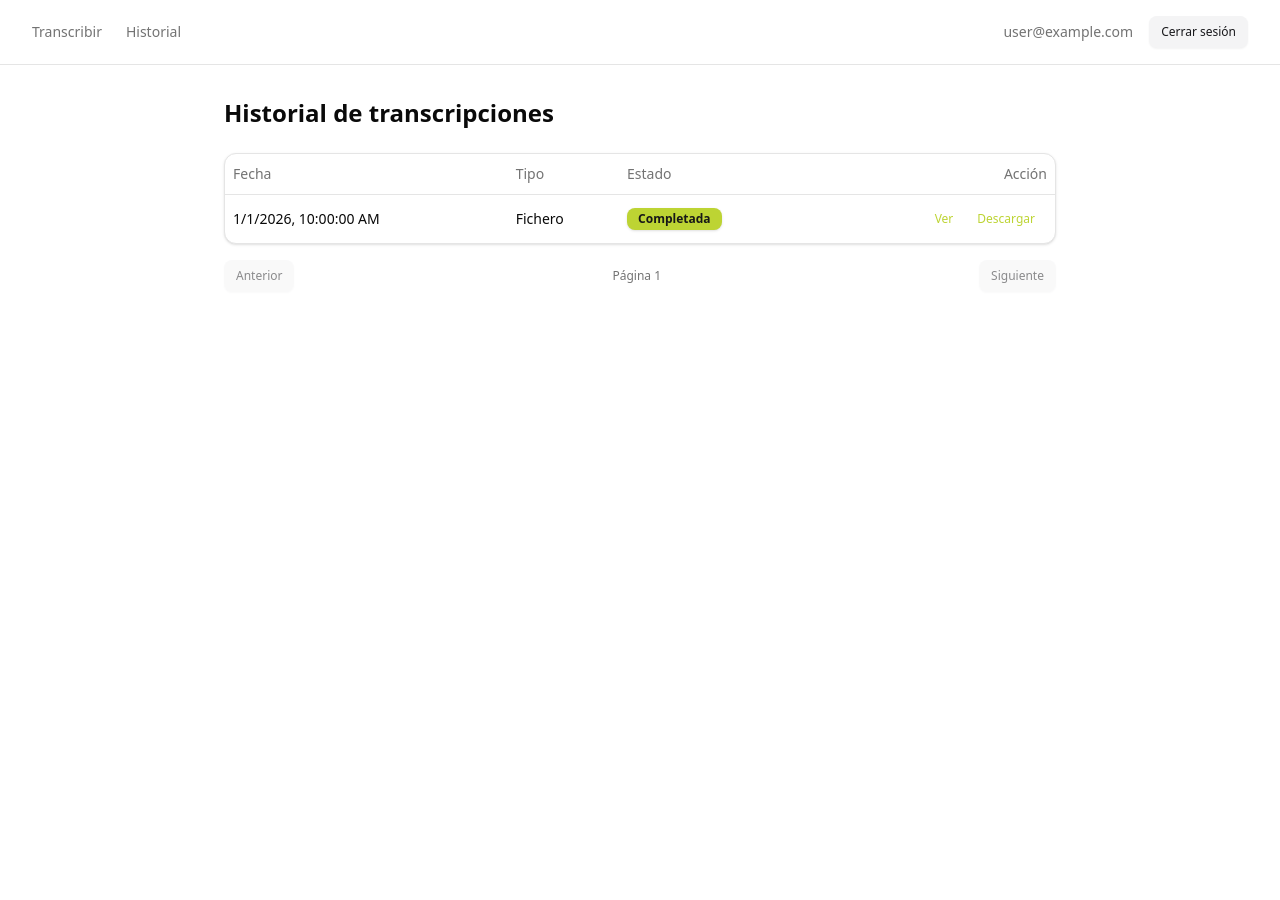
HistoryPage › lista las transcripciones y permite ver el detalle
The image size is (1280, 900).
Expected: the text "Fichero" is shown, [508,194,619,242]
Click the button "Ver".
click(944, 218)  # box [923,202,965,234]
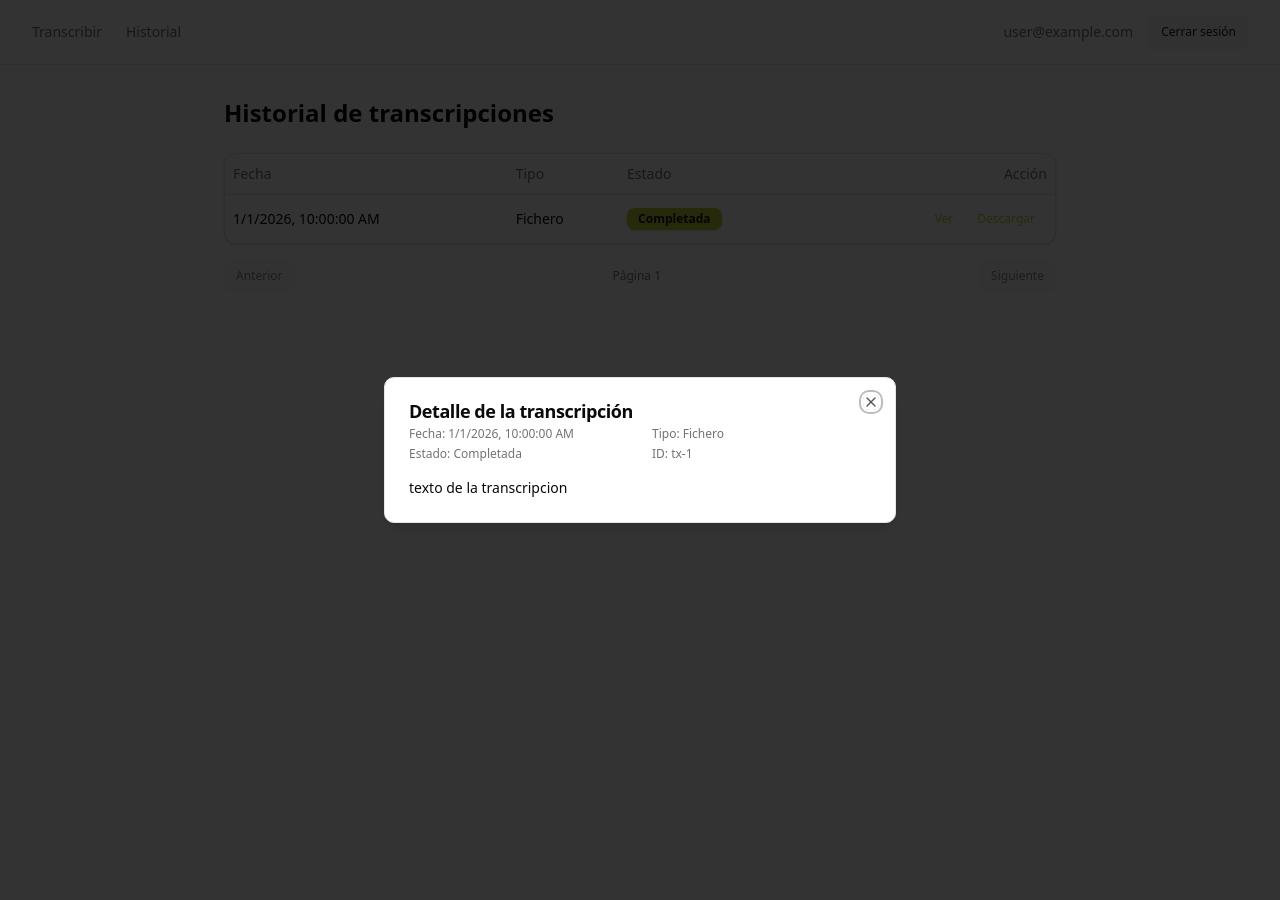
Now the text "texto de la transcripcion" is shown, box [409,478,567,497]
